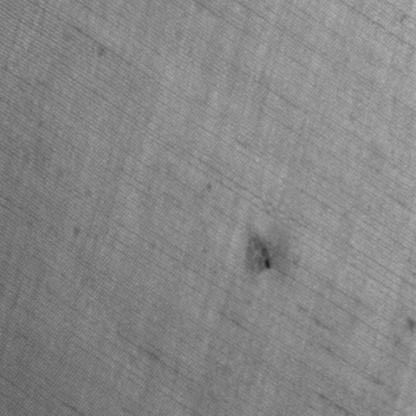objects: (246, 233, 275, 276)
